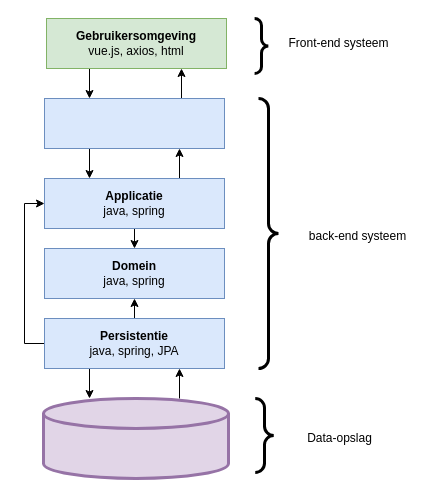
The diagram is 435 pixels wide and 497 high, and some of its shapes have lost their labels. Here are the shapes that lost their labels. From the top down, the centre of each, then its label:
the point at 134,123: Presentatie java, spring, dto's
the point at 136,438: Database PostgreSQL, Docker
